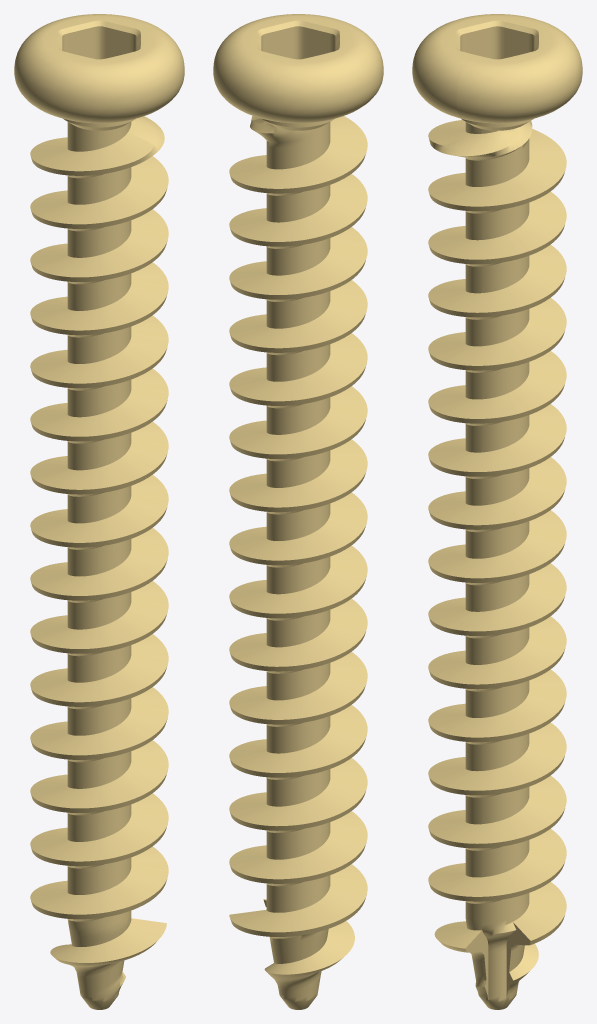
The model's file is os38_cancellous_full_6p5x50_lod0.glb.
3 views of the same model, side by side, from view 1: azimuth 30°, elevation 25°; view 2: azimuth 150°, elevation 25°; view 3: azimuth 270°, elevation 25° (orthographic).
Parts seen in each view (by area): view 1: os38_cancellous_full_6p5x50; view 2: os38_cancellous_full_6p5x50; view 3: os38_cancellous_full_6p5x50.
Part boxes in pixels (<box>): os38_cancellous_full_6p5x50: <box>14,14,184,1009</box>; os38_cancellous_full_6p5x50: <box>213,14,383,1009</box>; os38_cancellous_full_6p5x50: <box>412,14,582,1009</box>.
Size of the model in its own units: 0.008 by 0.05 by 0.008.
